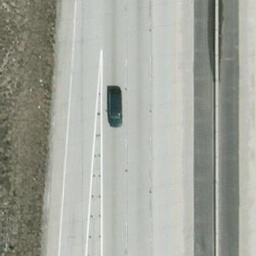car: (105, 85, 125, 128)
